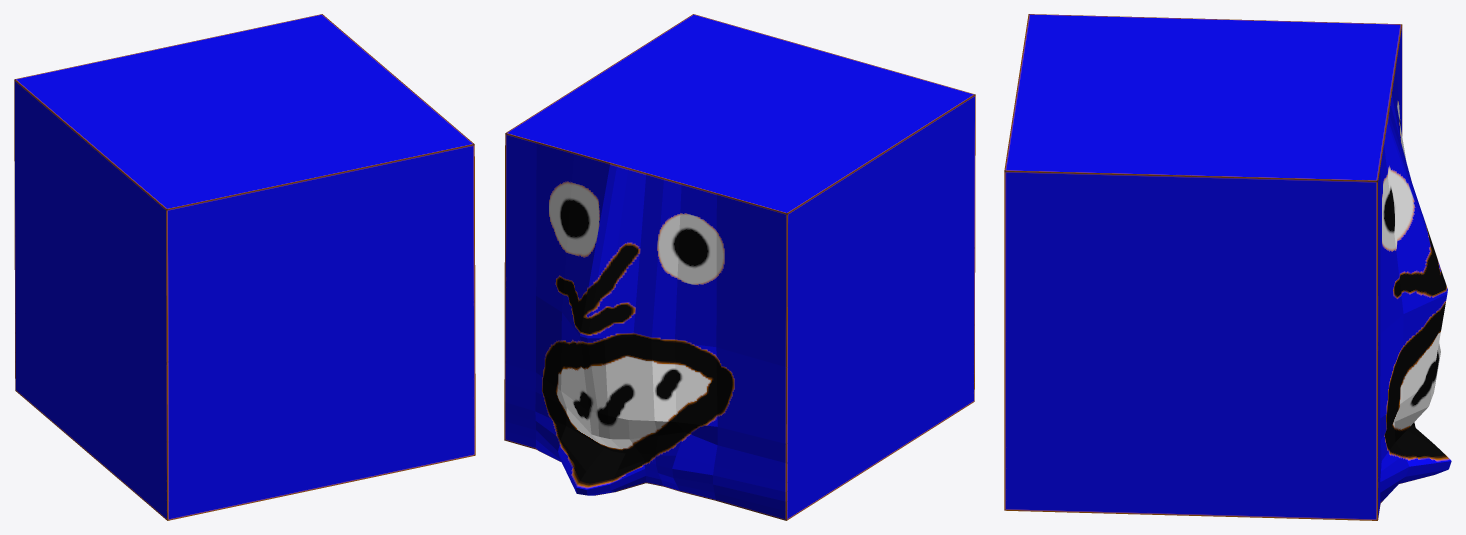
Rendered from HEAD2.obj.
3 views of the same model, side by side, from view 1: azimuth 30°, elevation 25°; view 2: azimuth 150°, elevation 25°; view 3: azimuth 270°, elevation 25° (orthographic). The views are drawn at different scales.
Visible parts, largest first — view 1: Cube_Cube.001; view 2: Cube_Cube.001; view 3: Cube_Cube.001.
Boxes of the visible parts, left/top/right/bottom form: Cube_Cube.001: left=14, top=14, right=475, bottom=520; Cube_Cube.001: left=504, top=14, right=975, bottom=520; Cube_Cube.001: left=1004, top=14, right=1451, bottom=520.
Size of the model in its own units: 1.07 by 1.03 by 1.19.
